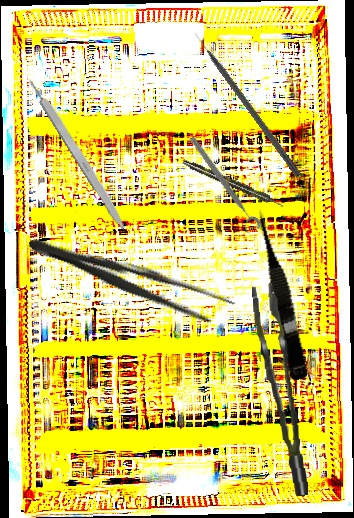Dressing Forceps: (22, 227, 238, 331)
Fixation Ring: (182, 134, 263, 236)
Handpiece: (181, 157, 286, 211)
Hook Surgical: (193, 30, 303, 178)
Micro Scissor: (251, 205, 314, 382)
Scalpel Handle: (25, 74, 133, 236)
Tissue Forceps: (251, 281, 309, 499)
